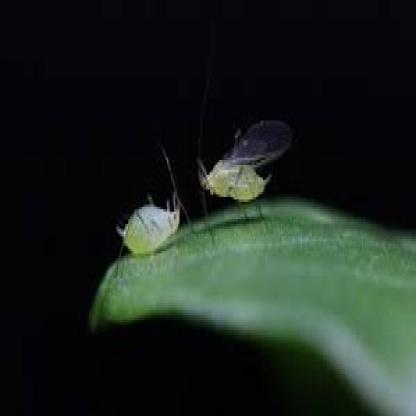aphid: (192, 115, 292, 227), (113, 166, 189, 265)
